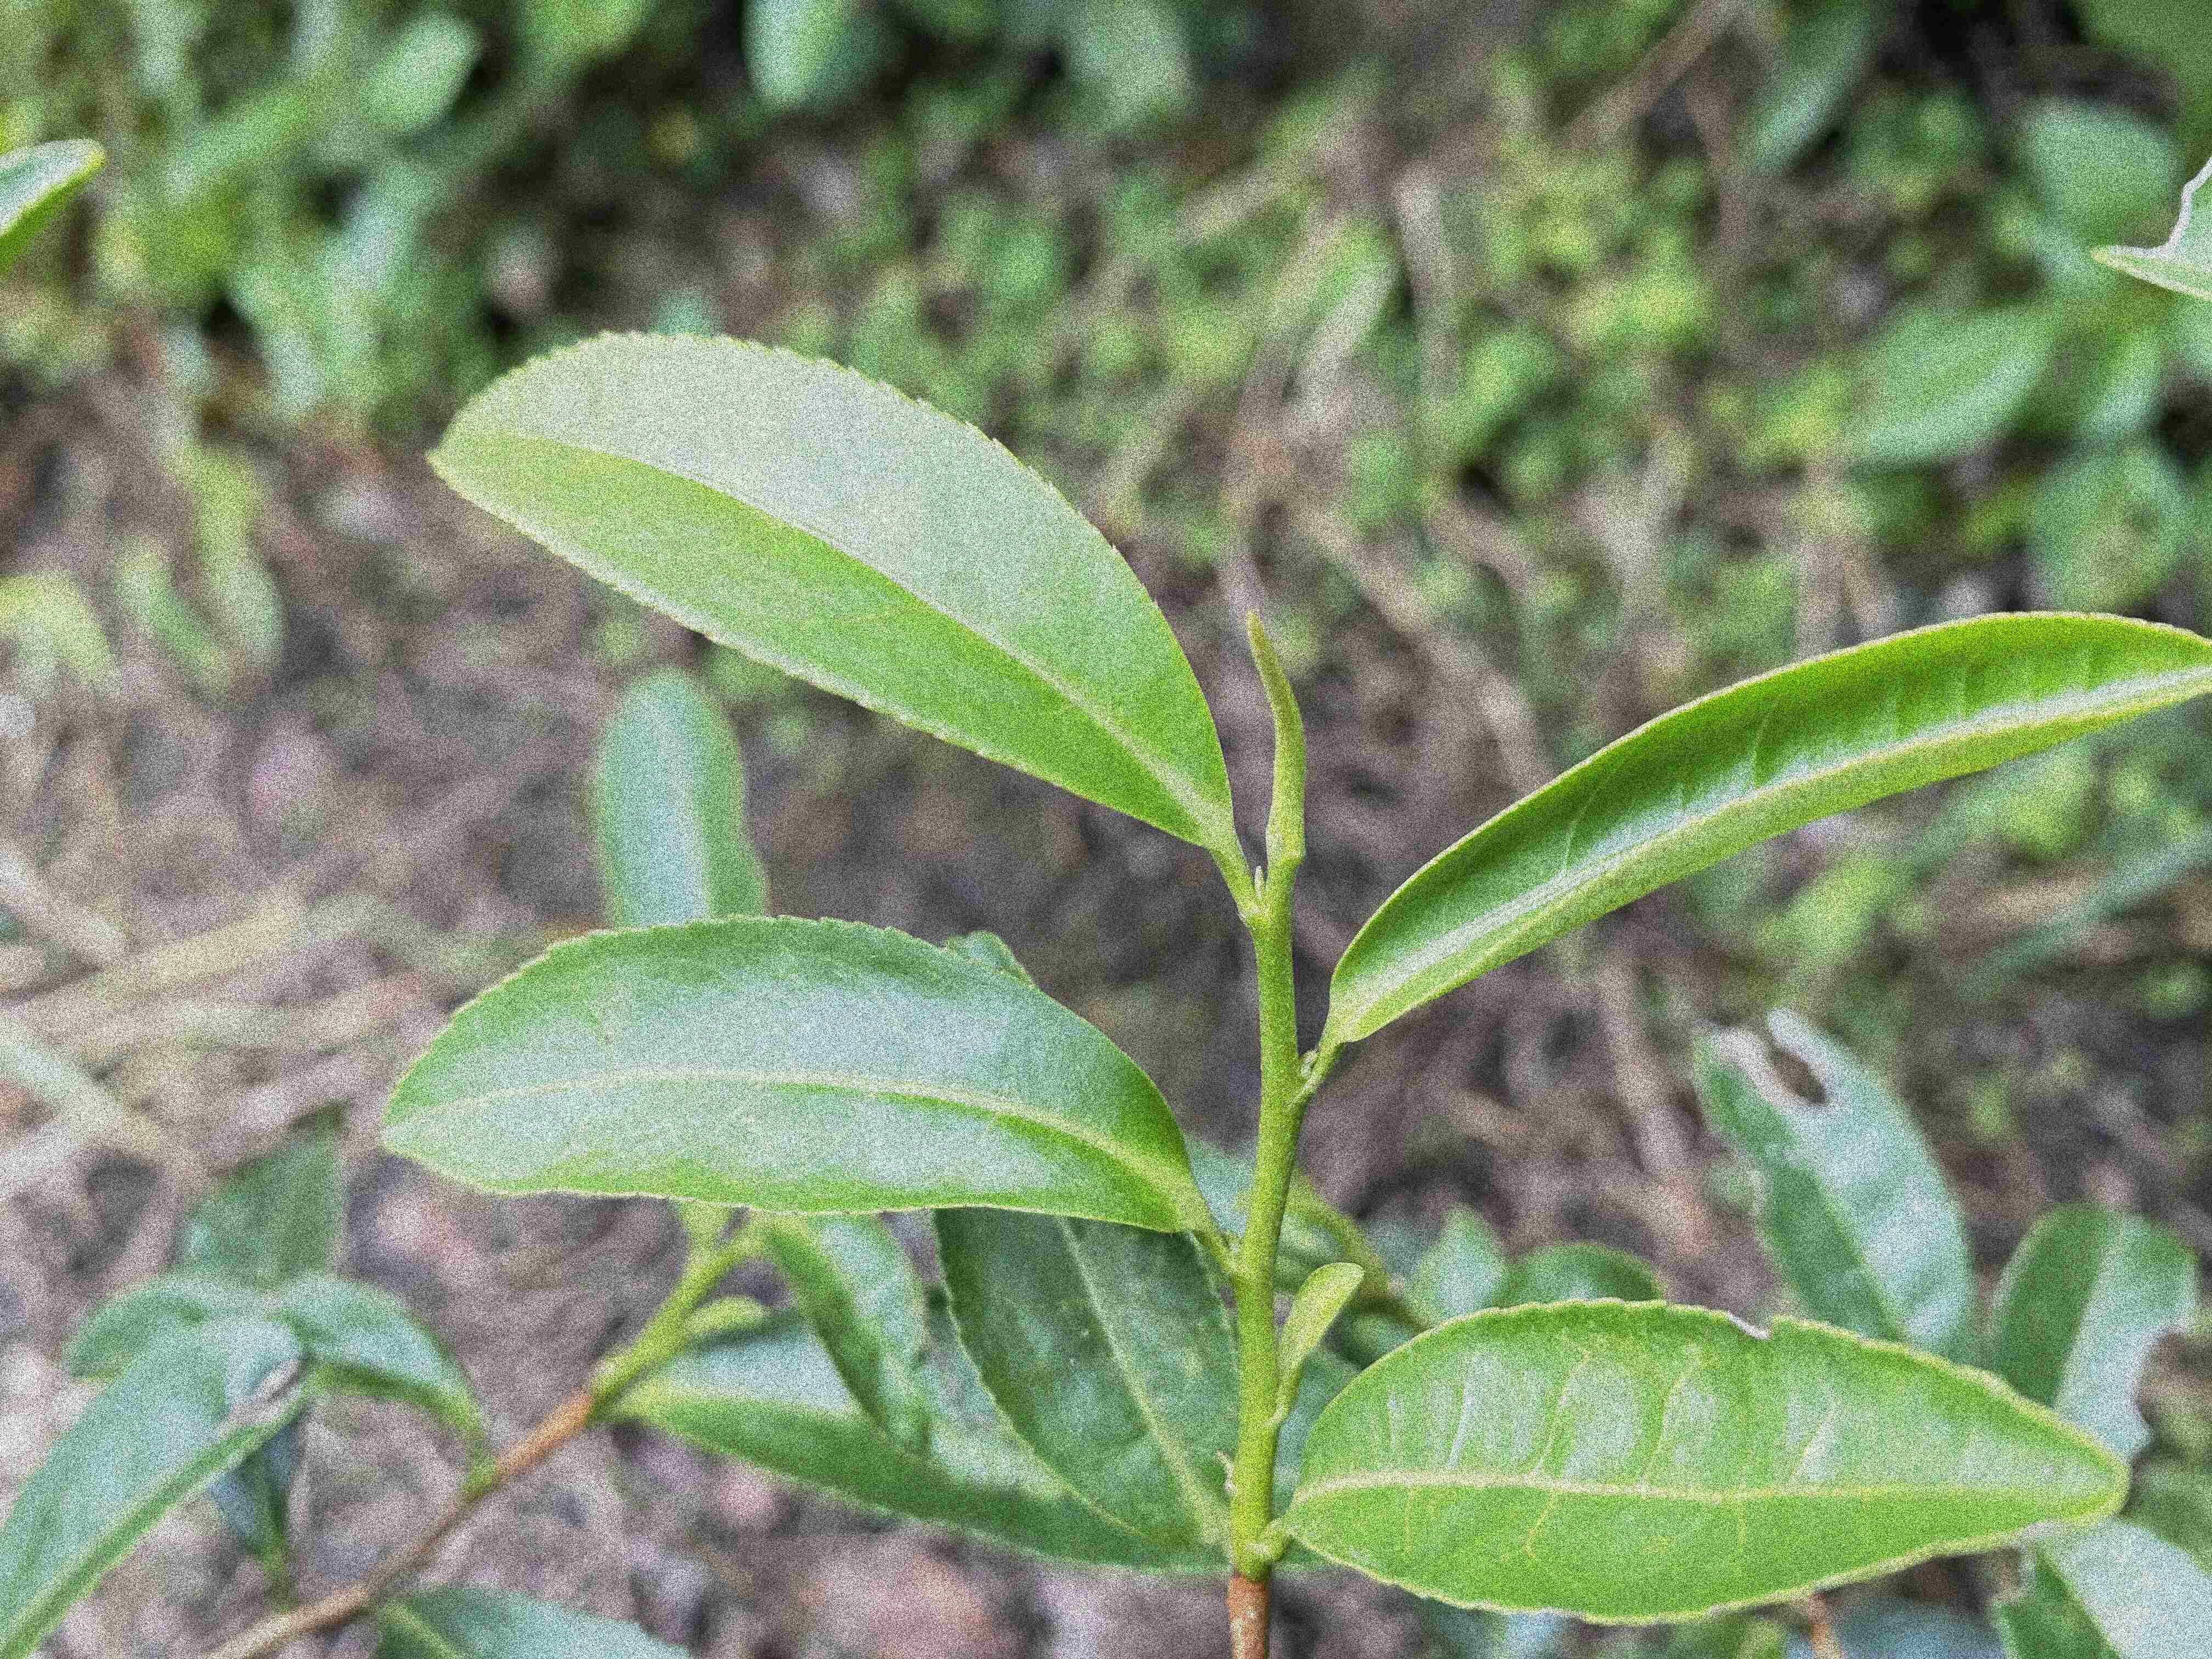chihuo_low: (1282, 1298, 2127, 1624)
healthy: (423, 324, 1238, 849), (1324, 605, 2209, 1051), (380, 910, 1202, 1234)
